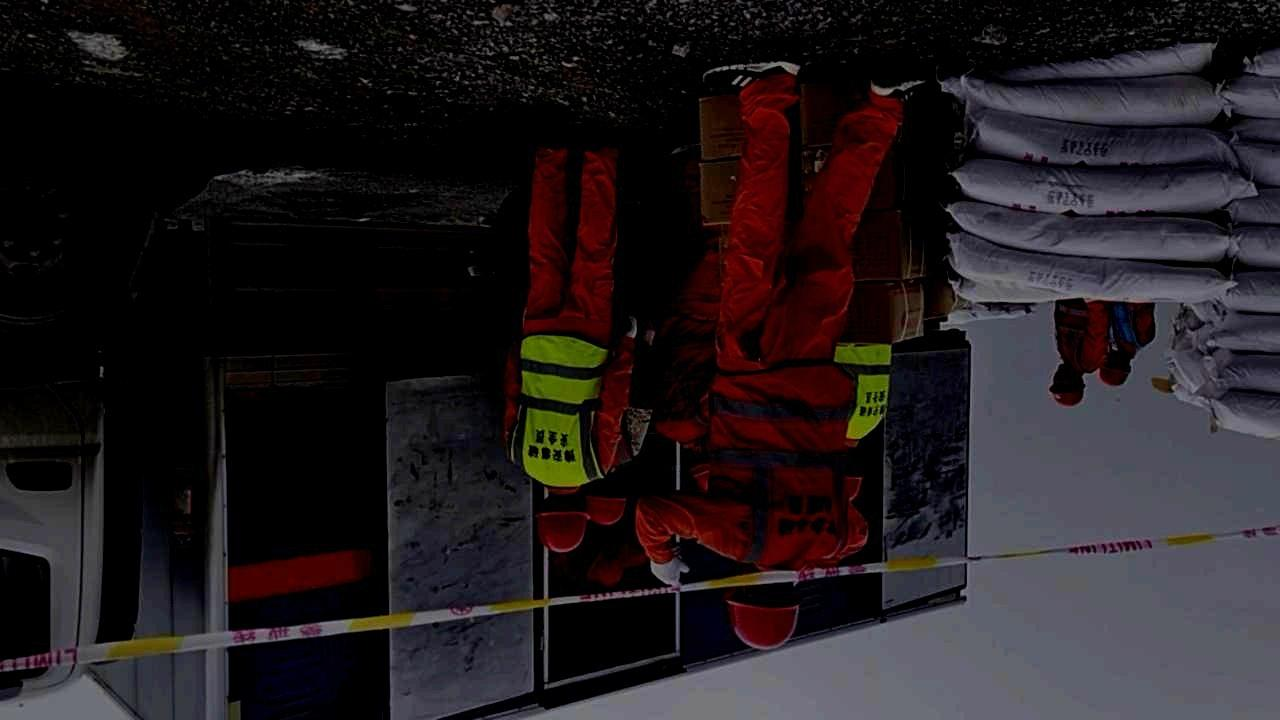helmet: (726, 576, 798, 650), (533, 495, 591, 552), (588, 479, 626, 525), (1049, 363, 1087, 408), (1098, 351, 1132, 388), (845, 451, 862, 501)
